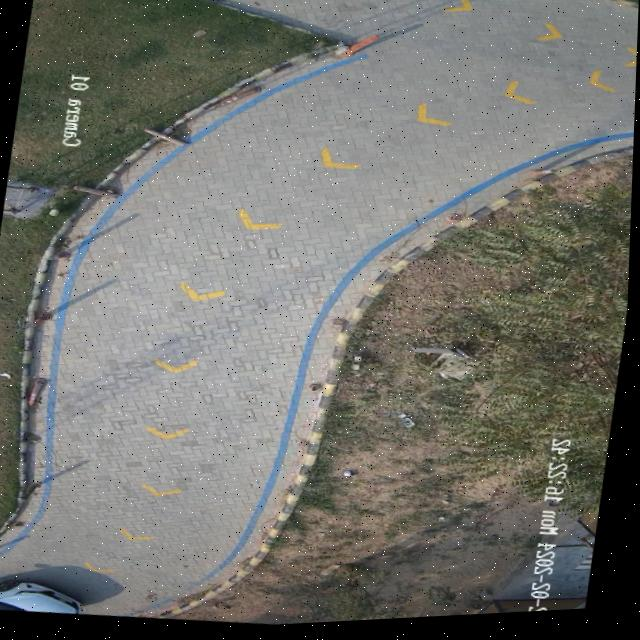car: (0, 580, 85, 615)
